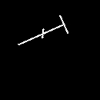double_crochet: (18, 16, 67, 44)
